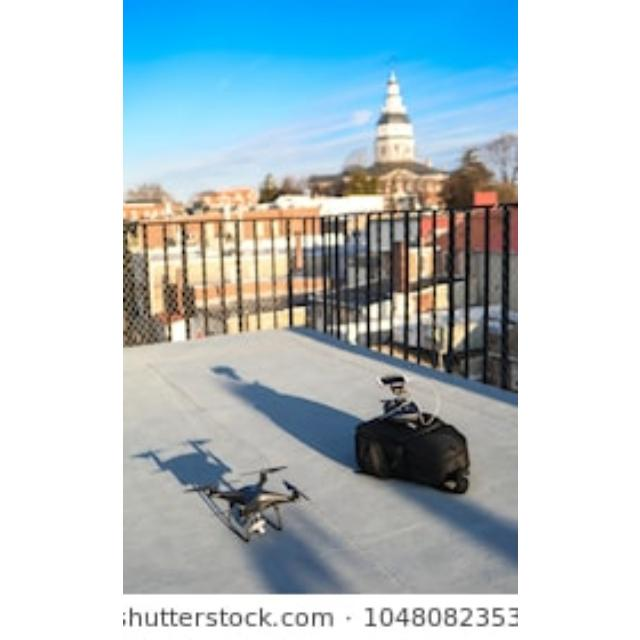Drones: (196, 462, 314, 544)
